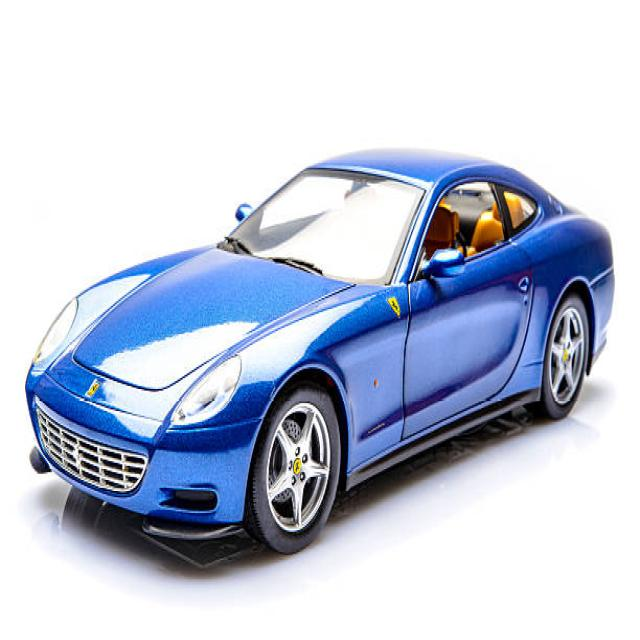Car: (24, 146, 615, 558)
